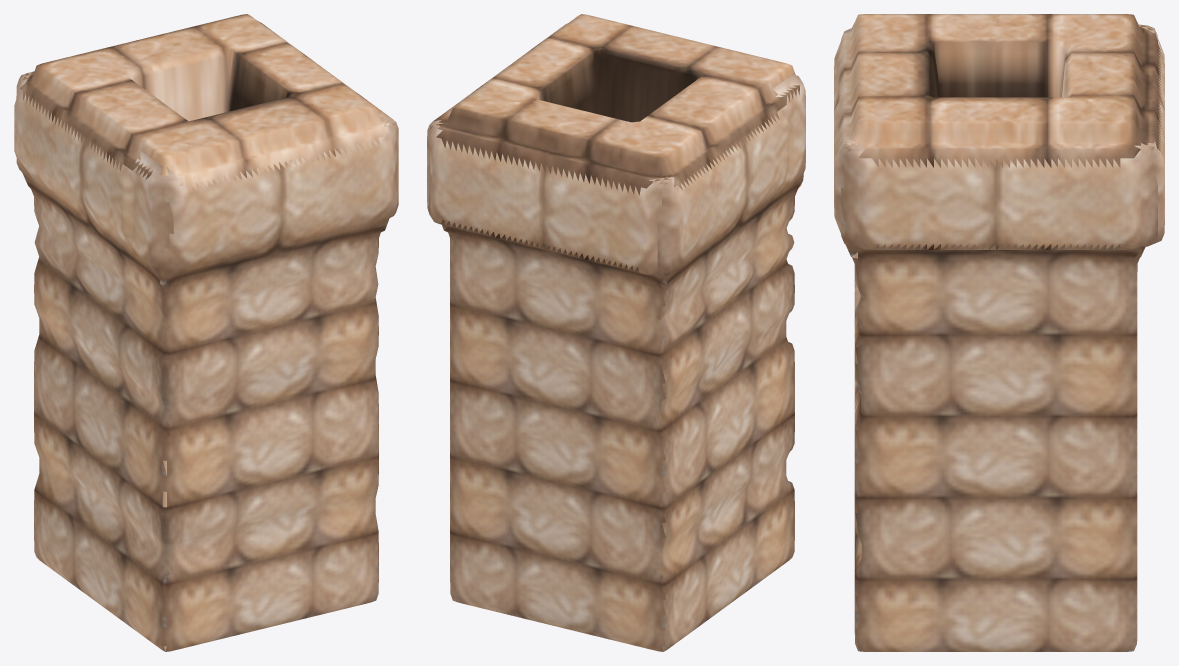
Rendered from bakery-chimney.glb.
3 renders of one model, left to right at view 1: azimuth 30°, elevation 25°; view 2: azimuth 150°, elevation 25°; view 3: azimuth 270°, elevation 25°, orthographic. The views are drawn at different scales.
Bounding box in the file's own units: 0.5397 × 1 × 0.5669.
1 material, 1 textured.
